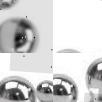ironball: (0, 0, 53, 53), (0, 60, 53, 101), (80, 53, 101, 101), (10, 53, 53, 72), (53, 70, 79, 101), (84, 92, 101, 101)
